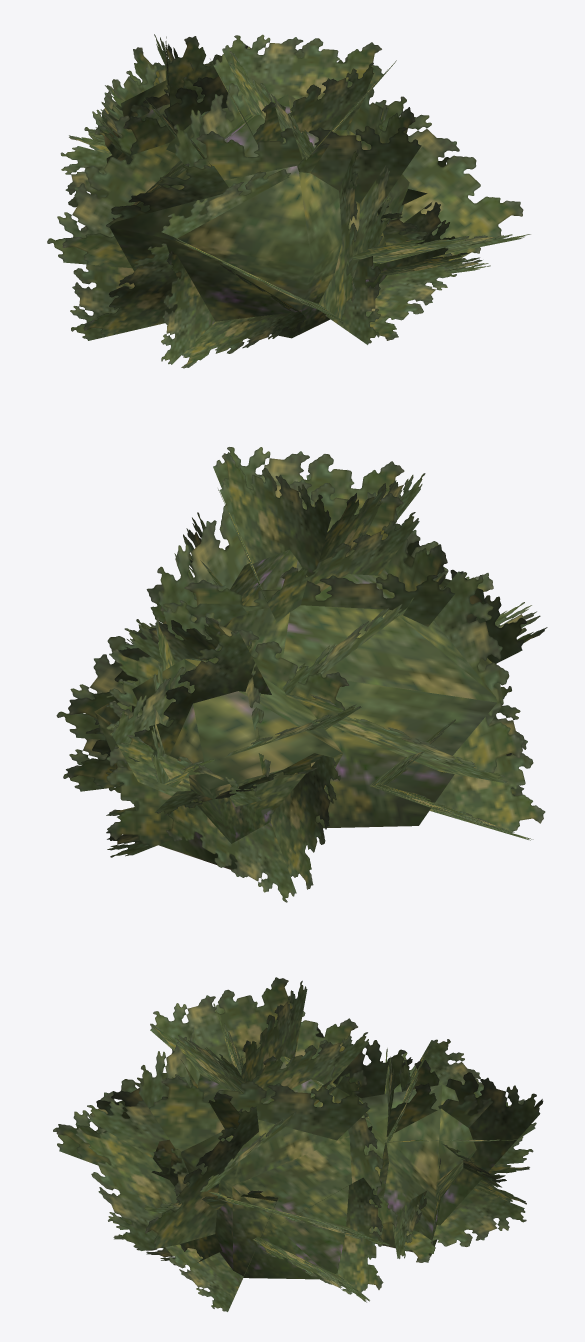
File: bush.FBX
The picture shows the model from 3 angles, top to bottom: view 1: azimuth 30°, elevation 25°; view 2: azimuth 150°, elevation 25°; view 3: azimuth 270°, elevation 25°; orthographic projection. The views are drawn at different scales.
Visible parts, largest first — view 1: DUMMY; view 2: DUMMY; view 3: DUMMY.
Boxes of the visible parts, x1=… form: DUMMY: x1=47, y1=34, x2=530, y2=368; DUMMY: x1=56, y1=447, x2=547, y2=902; DUMMY: x1=53, y1=977, x2=543, y2=1311.
Bounding box in the file's own units: 3.65 × 2.32 × 4.24.
Materials: 1 (1 with a texture image).
